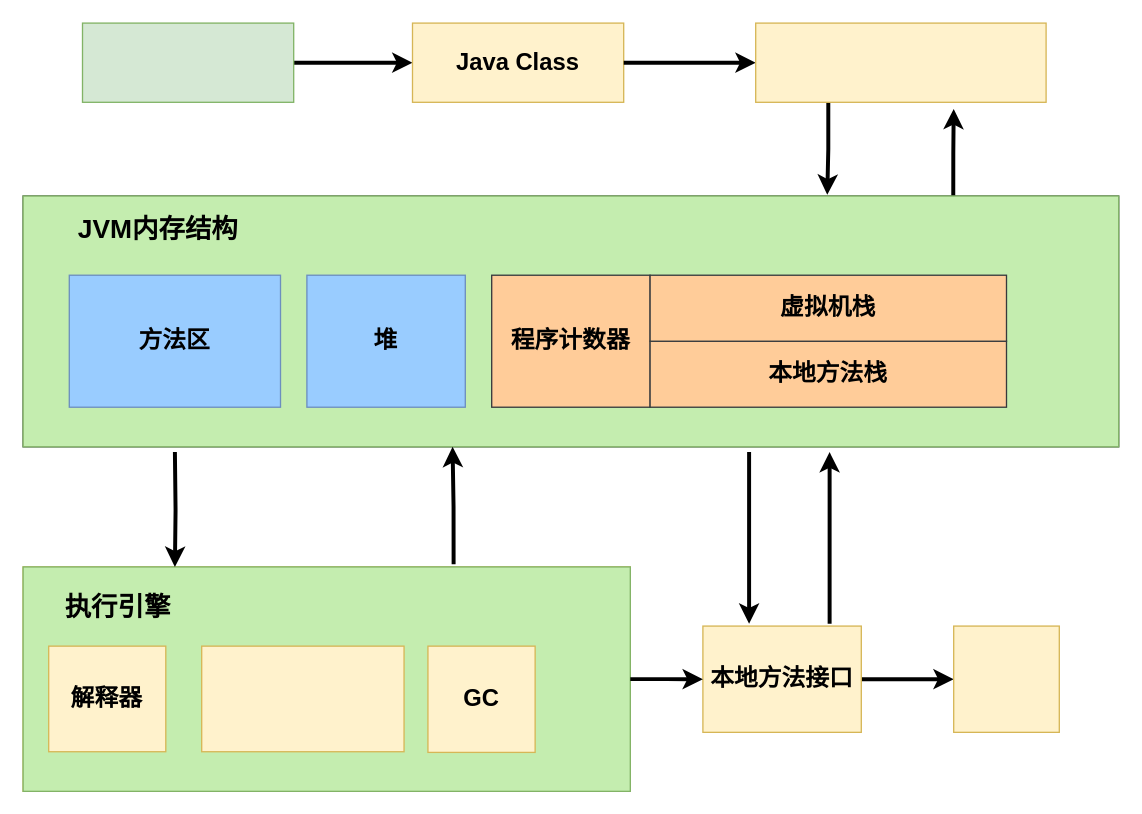
Some shapes in this 1142 by 814 pixel diagram are drawn without their labels. Each missing label, with the centre of its shape:
Java Source: the point at 187,62
JIT Compiler: the point at 302,698
本地库: the point at 1005,678
类加载子系统: the point at 900,62
